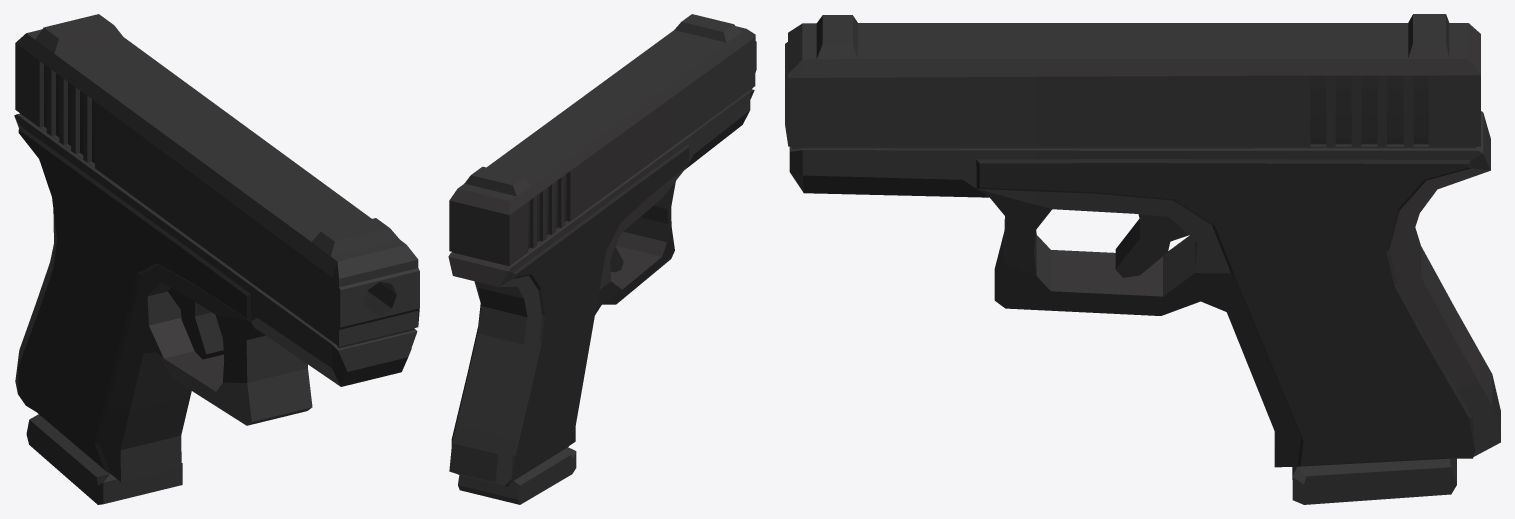
The model's file is Glock.fbx.
The picture shows the model from 3 angles, left to right: view 1: azimuth 30°, elevation 25°; view 2: azimuth 150°, elevation 25°; view 3: azimuth 270°, elevation 25°; orthographic projection. The views are drawn at different scales.
Parts seen in each view (by area): view 1: Glock; view 2: Glock; view 3: Glock.
Part boxes in pixels (x1,y1,x2,y2): Glock: (14, 14, 419, 504); Glock: (448, 14, 756, 504); Glock: (785, 14, 1500, 504).
Size of the model in its own units: 15.9 by 74.34 by 106.
